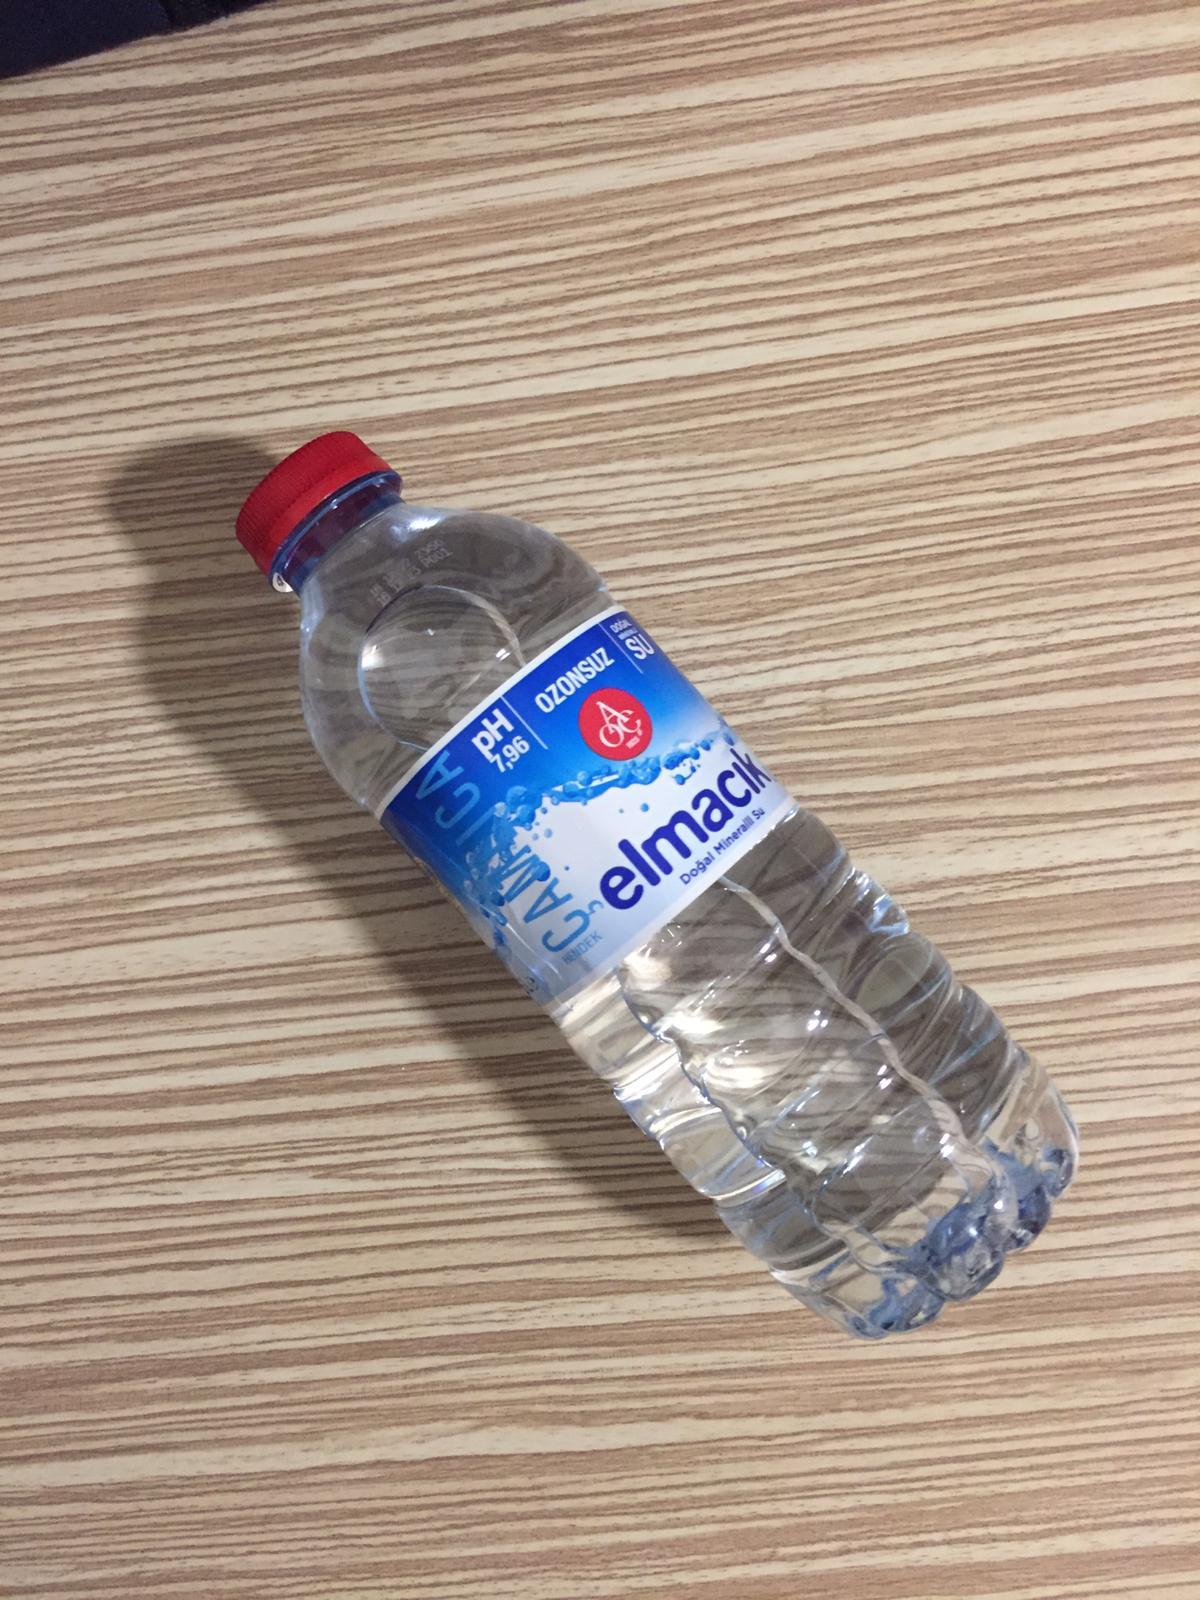bottle: (228, 425, 1071, 1342)
